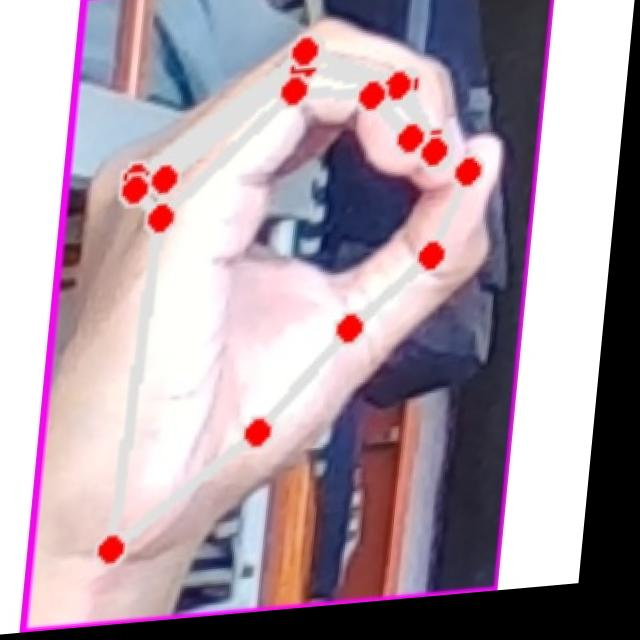O: (52, 0, 527, 603)
